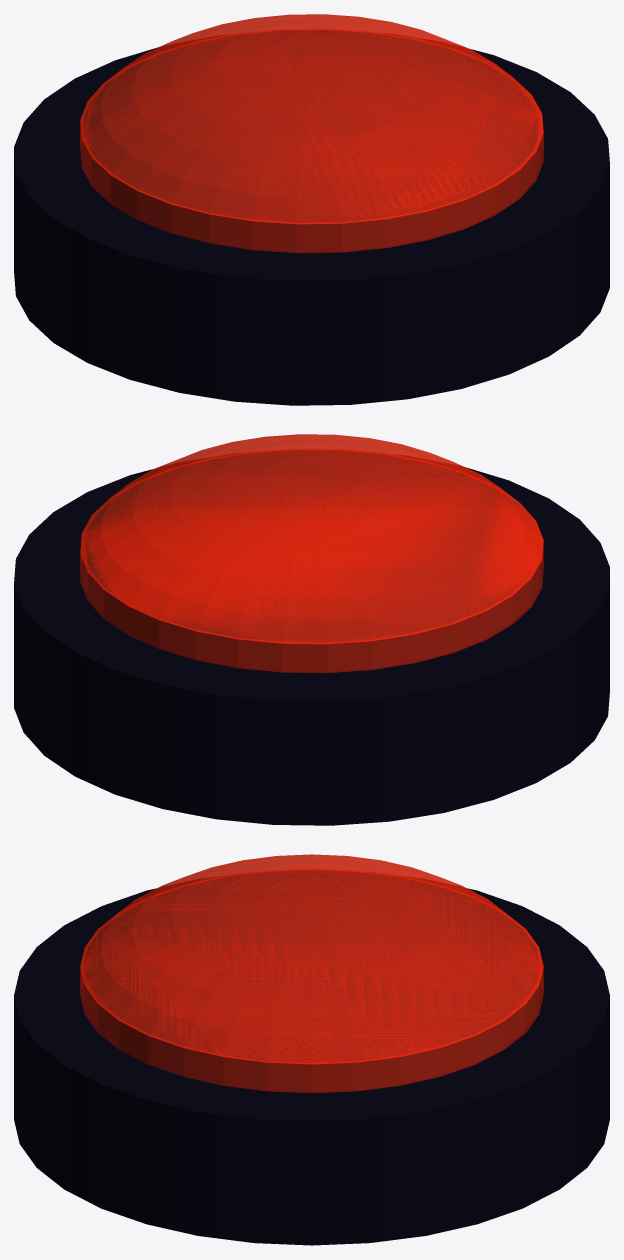
File: button-lf.glb
3 renders of one model, top to bottom at view 1: azimuth 30°, elevation 25°; view 2: azimuth 150°, elevation 25°; view 3: azimuth 270°, elevation 25°, orthographic.
Visible parts, largest first — view 1: button-lf, top-inside, top-sphere, top-outside; view 2: button-lf, top-sphere, top-inside, top-outside; view 3: button-lf, top-inside, top-sphere, top-outside.
Boxes of the visible parts, <box> form: button-lf: <box>14,47,609,405</box>; top-inside: <box>84,30,539,251</box>; top-sphere: <box>80,14,543,224</box>; top-outside: <box>80,29,543,253</box>; button-lf: <box>14,467,609,825</box>; top-sphere: <box>80,434,543,644</box>; top-inside: <box>84,450,539,671</box>; top-outside: <box>80,449,543,673</box>; button-lf: <box>14,888,609,1245</box>; top-inside: <box>84,870,539,1091</box>; top-sphere: <box>80,854,543,1064</box>; top-outside: <box>80,869,543,1093</box>.
Size of the model in its own units: 0.09 by 0.0374 by 0.09.
